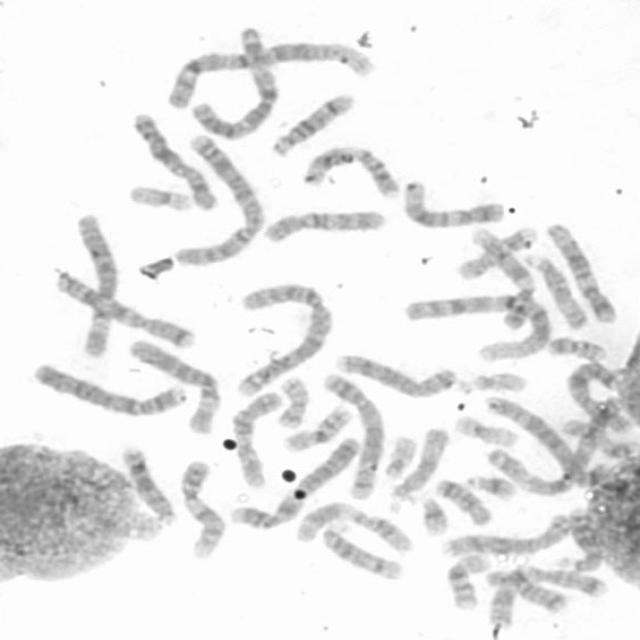A1: (163, 41, 378, 110), (401, 293, 551, 364)
A2: (174, 132, 266, 268), (232, 280, 336, 400)
A3: (485, 393, 625, 498), (189, 25, 278, 142)
B4: (228, 435, 361, 533), (28, 360, 188, 420)
B5: (481, 392, 613, 489), (321, 371, 386, 501)
C10: (231, 389, 286, 489), (263, 208, 387, 246)
C11: (293, 499, 416, 555), (304, 146, 402, 201)
C12: (544, 220, 620, 327), (402, 181, 508, 229)
C6: (127, 336, 222, 438), (77, 212, 119, 358)
C7: (53, 269, 197, 349), (485, 564, 609, 628)
C8: (332, 351, 458, 400), (443, 513, 572, 557)
C9: (470, 227, 537, 331), (179, 459, 227, 560)
D13: (120, 446, 178, 526), (560, 506, 604, 572)
D14: (271, 92, 359, 157), (321, 522, 403, 582)
D15: (386, 426, 450, 514), (523, 252, 589, 330)
E16: (282, 404, 353, 454), (446, 551, 493, 611)
E17: (452, 225, 540, 282), (556, 417, 639, 461)
E18: (485, 565, 571, 615), (432, 477, 495, 527)
F19: (453, 413, 520, 449), (128, 184, 194, 214)
F20: (274, 374, 312, 429), (547, 334, 606, 364)
G21: (414, 492, 450, 537), (464, 473, 519, 502)
G22: (458, 371, 529, 396), (382, 435, 418, 481)
X: (131, 111, 221, 213), (565, 358, 632, 436)
